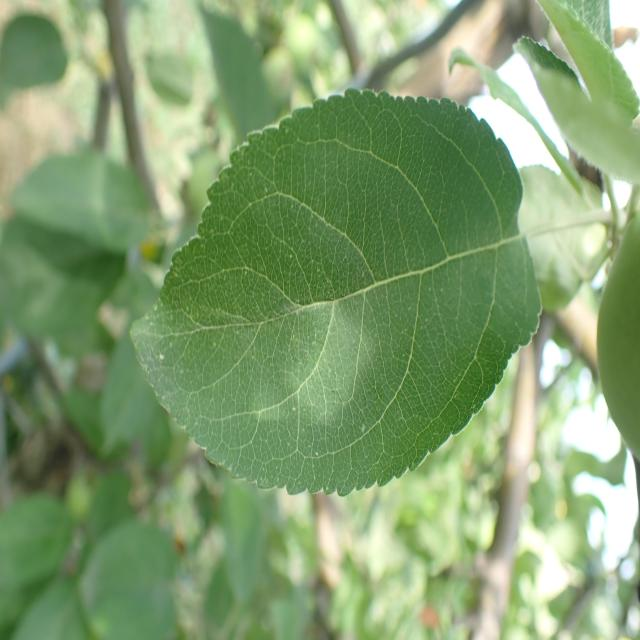healthy: (129, 86, 543, 497)
